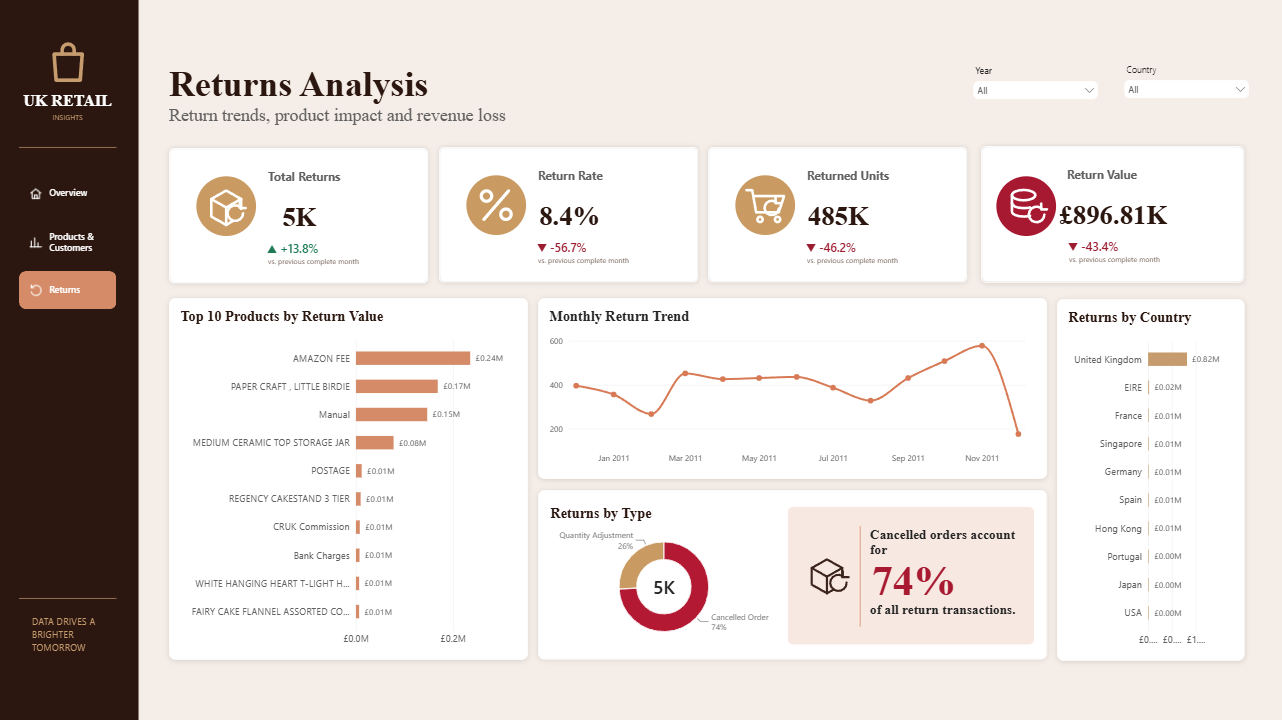

Layout of this report page (visuals, bound fields, positions):
{"tool":"powerbi","page":{"name":"Returns Analysis","canvas":[1920,1080],"ordinal":2},"visuals":[{"type":"group","id":"g1","title":"Group 4","box":[255.5,223.4,399.6,202],"z":0,"group":"g6"},{"type":"cardVisual","fields":{"Data":["FactSales.Return Value Trend Label"]},"box":[1579.8,339.1,179.8,61.7],"z":0,"group":"g8"},{"type":"cardVisual","fields":{"Data":["FactSales.Return Rate Trend Label"]},"box":[787.5,339.9,179.8,61.7],"z":0,"group":"g9"},{"type":"cardVisual","fields":{"Data":["FactSales.Returned Units Trend Label"]},"box":[1189.2,340.5,179.8,61.7],"z":0,"group":"g10"},{"type":"cardVisual","fields":{"Data":["FactSales.Total Returns Trend Label"]},"box":[384.9,342.2,179.8,61.7],"z":0,"group":"g11"},{"type":"shape","box":[806.7,733.3,760,253.3],"z":0},{"type":"shape","box":[0,0,209.8,1079.3],"z":1000},{"type":"group","id":"g2","title":"Group 4","box":[658.1,221.1,397.4,203.8],"z":1000,"group":"g6"},{"type":"textbox","box":[1597.8,377.6,209.4,35.2],"z":1000,"group":"g8"},{"type":"textbox","box":[805.5,378.4,209.4,35.2],"z":1000,"group":"g9"},{"type":"textbox","box":[1207.2,379,209.4,35.2],"z":1000,"group":"g10"},{"type":"textbox","box":[402.9,380.7,209.4,35.2],"z":1000,"group":"g11"},{"type":"group","id":"g3","title":"Group 4","box":[1059.8,221.7,398.4,202.8],"z":2000,"group":"g6"},{"type":"shape","box":[1178.3,756.7,370,208.3],"z":2000},{"type":"cardVisual","fields":{"Data":["FactSales.Cancelled Return Share %"]},"box":[1288.8,781,217.5,177.5],"z":2000,"group":"g7"},{"type":"group","id":"g4","title":"Group 4","box":[1467,220,393,204.1],"z":3000,"group":"g6"},{"type":"textbox","title":"Returns Analysis","box":[255.7,95.7,727.1,94.3],"z":5000},{"type":"textbox","box":[21.5,139.2,165.8,50.7],"z":6000},{"type":"textbox","title":"Cancelled orders account for","box":[1302.6,788.5,240,56.2],"z":6000,"group":"g7"},{"type":"slicer","fields":{"Values":["FactSales.Country"]},"box":[1676,96.7,196,72],"z":8000,"group":"g5"},{"type":"shape","box":[31.1,163.3,145.6,117.8],"z":8000},{"type":"image","box":[56,58,96,72],"z":9000},{"type":"cardVisual","fields":{"Data":["FactSales.Return Value"]},"box":[1467,220,393,204.1],"z":9000,"group":"g4"},{"type":"cardVisual","fields":{"Data":["FactSales.Return Rate"]},"box":[658.1,221.1,387.3,202],"z":9000,"group":"g2"},{"type":"cardVisual","fields":{"Data":["FactSales.Returned Units"]},"box":[1059.8,221.7,387.3,202],"z":9000,"group":"g3"},{"type":"cardVisual","fields":{"Data":["FactSales.Total Returns"]},"box":[255.5,223.4,387.3,202],"z":9000,"group":"g1"},{"type":"textbox","title":"of all return transactions.","box":[1302.6,899.8,240,26.2],"z":9000,"group":"g7"},{"type":"slicer","fields":{"Values":["DateTable.Year"]},"box":[1450,98.7,196,76],"z":10000,"group":"g5"},{"type":"clusteredBarChart","title":"Top 10 Products by Return Value","fields":{"Category":["FactSales.ProductName"],"Y":["FactSales.Return Value"]},"box":[254.6,446.5,536.4,539.8],"z":10000},{"type":"shape","box":[32,836,145.6,117.8],"z":11000},{"type":"textbox","title":"DATA DRIVES A BRIGHTER TOMORROW","box":[50,920,108,66],"z":12000},{"type":"group","id":"g5","title":"Group 5","box":[1450,96.7,423.3,78.3],"z":14000},{"type":"group","id":"g6","title":"Group 3","box":[255.5,220,1604.5,205.5],"z":15000},{"type":"clusteredBarChart","title":"Returns by Country","fields":{"Category":["FactSales.Country"],"Y":["FactSales.Return Value"]},"box":[1580,447.1,280,540],"z":16000},{"type":"actionButton","box":[31.5,261.5,145.4,57.2],"z":17000},{"type":"donutChart","title":"Returns by Type","fields":{"Category":["FactSales.Return Type"],"Y":["FactSales.Total Returns"]},"box":[810,741.2,368.8,238.8],"z":17000},{"type":"actionButton","box":[31.5,334.1,145.4,59],"z":18000},{"type":"image","box":[1201.2,806.2,77.5,108.8],"z":18000},{"type":"actionButton","box":[31.5,406.7,145.4,57.2],"z":19000},{"type":"lineChart","title":"Monthly Return Trend","fields":{"Category":["DateTable.YearMonth"],"Y":["FactSales.Total Returns"]},"box":[806.7,446.7,760,270],"z":19000},{"type":"group","id":"g7","title":"Group 6","box":[1288.8,781,253.8,177.5],"z":20000},{"type":"shape","box":[1185,786.2,203.8,150],"z":21000},{"type":"image","box":[679.7,261.2,129.7,93.1],"z":25000,"group":"g2"},{"type":"image","box":[1081.4,261.8,129.7,93.1],"z":25000,"group":"g3"},{"type":"image","box":[277.1,263.5,129.7,93.1],"z":25000,"group":"g1"},{"type":"image","box":[1470.6,263.7,129.7,93.1],"z":25000,"group":"g4"},{"type":"textbox","title":"Return Value","box":[1595.2,250,250.9,36.4],"z":28000,"group":"g4"},{"type":"textbox","title":"Return Rate","box":[806.3,251.6,251.5,36.2],"z":28000,"group":"g2"},{"type":"textbox","title":"Returned Units","box":[1208,252.2,251.5,36.2],"z":28000,"group":"g3"},{"type":"textbox","title":"Total Returns","box":[403.7,253.9,251.5,36.2],"z":28000,"group":"g1"},{"type":"group","id":"g8","title":"Group 2","box":[1579.8,339.1,227.3,73.9],"z":31000,"group":"g4"},{"type":"group","id":"g9","title":"Group 2","box":[787.5,339.9,227.3,73.9],"z":31000,"group":"g2"},{"type":"group","id":"g10","title":"Group 2","box":[1189.2,340.5,227.3,73.9],"z":31000,"group":"g3"},{"type":"group","id":"g11","title":"Group 2","box":[384.9,342.2,227.3,73.9],"z":31000,"group":"g1"}]}

Visuals, with their boxes on the page's 1920x1080 design canvas (x1, y1, x2, y2). These are canvas units, not pixel positions in the 1282x720 screenshot, which may show the page scaled, cropped or inside an application window:
"Group 4" group: <bbox>256, 223, 655, 425</bbox>
cardVisual - FactSales.Return Value Trend Label: <bbox>1580, 339, 1760, 401</bbox>
cardVisual - FactSales.Return Rate Trend Label: <bbox>788, 340, 967, 402</bbox>
cardVisual - FactSales.Returned Units Trend Label: <bbox>1189, 340, 1369, 402</bbox>
cardVisual - FactSales.Total Returns Trend Label: <bbox>385, 342, 565, 404</bbox>
shape: <bbox>807, 733, 1567, 987</bbox>
shape: <bbox>0, 0, 210, 1079</bbox>
"Group 4" group: <bbox>658, 221, 1056, 425</bbox>
textbox: <bbox>1598, 378, 1807, 413</bbox>
textbox: <bbox>806, 378, 1015, 414</bbox>
textbox: <bbox>1207, 379, 1417, 414</bbox>
textbox: <bbox>403, 381, 612, 416</bbox>
"Group 4" group: <bbox>1060, 222, 1458, 424</bbox>
shape: <bbox>1178, 757, 1548, 965</bbox>
cardVisual - FactSales.Cancelled Return Share %: <bbox>1289, 781, 1506, 958</bbox>
"Group 4" group: <bbox>1467, 220, 1860, 424</bbox>
"Returns Analysis" textbox: <bbox>256, 96, 983, 190</bbox>
textbox: <bbox>22, 139, 187, 190</bbox>
"Cancelled orders account for" textbox: <bbox>1303, 788, 1543, 845</bbox>
slicer - FactSales.Country: <bbox>1676, 97, 1872, 169</bbox>
shape: <bbox>31, 163, 177, 281</bbox>
image: <bbox>56, 58, 152, 130</bbox>
cardVisual - FactSales.Return Value: <bbox>1467, 220, 1860, 424</bbox>
cardVisual - FactSales.Return Rate: <bbox>658, 221, 1045, 423</bbox>
cardVisual - FactSales.Returned Units: <bbox>1060, 222, 1447, 424</bbox>
cardVisual - FactSales.Total Returns: <bbox>256, 223, 643, 425</bbox>
"of all return transactions." textbox: <bbox>1303, 900, 1543, 926</bbox>
slicer - DateTable.Year: <bbox>1450, 99, 1646, 175</bbox>
"Top 10 Products by Return Value" clusteredBarChart: <bbox>255, 446, 791, 986</bbox>
shape: <bbox>32, 836, 178, 954</bbox>
"DATA DRIVES A BRIGHTER TOMORROW" textbox: <bbox>50, 920, 158, 986</bbox>
"Group 5" group: <bbox>1450, 97, 1873, 175</bbox>
"Group 3" group: <bbox>256, 220, 1860, 426</bbox>
"Returns by Country" clusteredBarChart: <bbox>1580, 447, 1860, 987</bbox>
actionButton: <bbox>32, 262, 177, 319</bbox>
"Returns by Type" donutChart: <bbox>810, 741, 1179, 980</bbox>
actionButton: <bbox>32, 334, 177, 393</bbox>
image: <bbox>1201, 806, 1279, 915</bbox>
actionButton: <bbox>32, 407, 177, 464</bbox>
"Monthly Return Trend" lineChart: <bbox>807, 447, 1567, 717</bbox>
"Group 6" group: <bbox>1289, 781, 1543, 958</bbox>
shape: <bbox>1185, 786, 1389, 936</bbox>
image: <bbox>680, 261, 809, 354</bbox>
image: <bbox>1081, 262, 1211, 355</bbox>
image: <bbox>277, 264, 407, 357</bbox>
image: <bbox>1471, 264, 1600, 357</bbox>
"Return Value" textbox: <bbox>1595, 250, 1846, 286</bbox>
"Return Rate" textbox: <bbox>806, 252, 1058, 288</bbox>
"Returned Units" textbox: <bbox>1208, 252, 1460, 288</bbox>
"Total Returns" textbox: <bbox>404, 254, 655, 290</bbox>
"Group 2" group: <bbox>1580, 339, 1807, 413</bbox>
"Group 2" group: <bbox>788, 340, 1015, 414</bbox>
"Group 2" group: <bbox>1189, 340, 1416, 414</bbox>
"Group 2" group: <bbox>385, 342, 612, 416</bbox>
